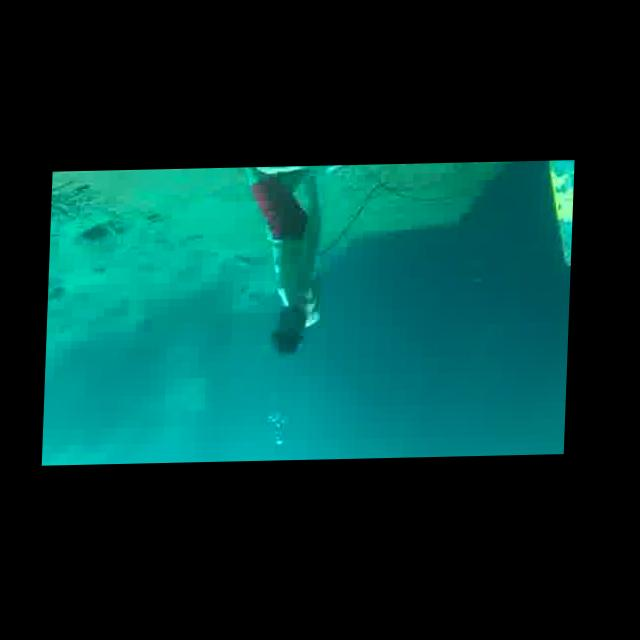human: (237, 167, 359, 366)
